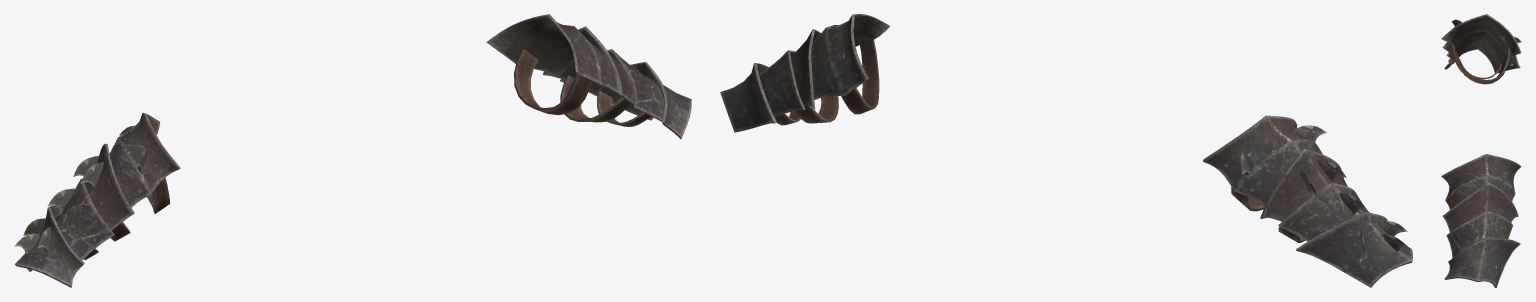
File: sk_dg_uruk_bracer_elite_e.fbx
3 renders of one model, left to right at view 1: azimuth 30°, elevation 25°; view 2: azimuth 150°, elevation 25°; view 3: azimuth 270°, elevation 25°, orthographic. The views are drawn at different scales.
Visible parts, largest first — view 1: sk_dg_uruk_bracer_elite_e; view 2: sk_dg_uruk_bracer_elite_e; view 3: sk_dg_uruk_bracer_elite_e.
Part boxes in pixels (x1,y1,x2,y2): sk_dg_uruk_bracer_elite_e: (14, 14, 691, 287); sk_dg_uruk_bracer_elite_e: (720, 14, 1412, 287); sk_dg_uruk_bracer_elite_e: (1441, 14, 1521, 287).
Size of the model in its own units: 1.48 by 0.216 by 0.2866.
1 material, 1 textured.
